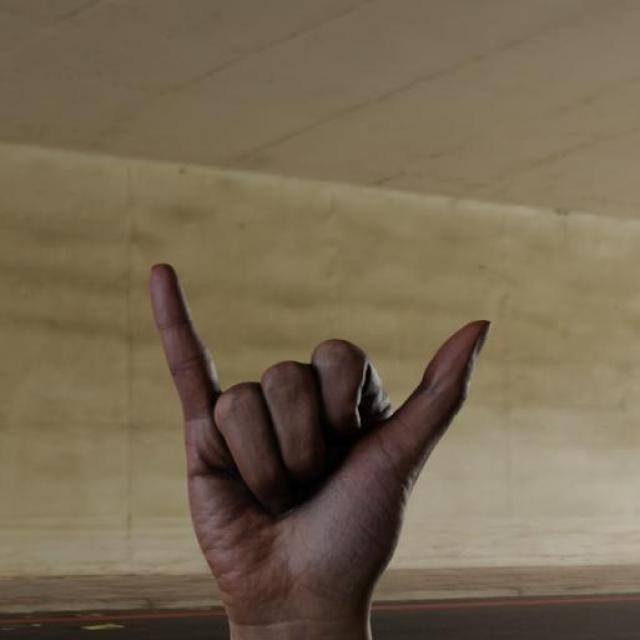Y: (144, 259, 495, 630)
